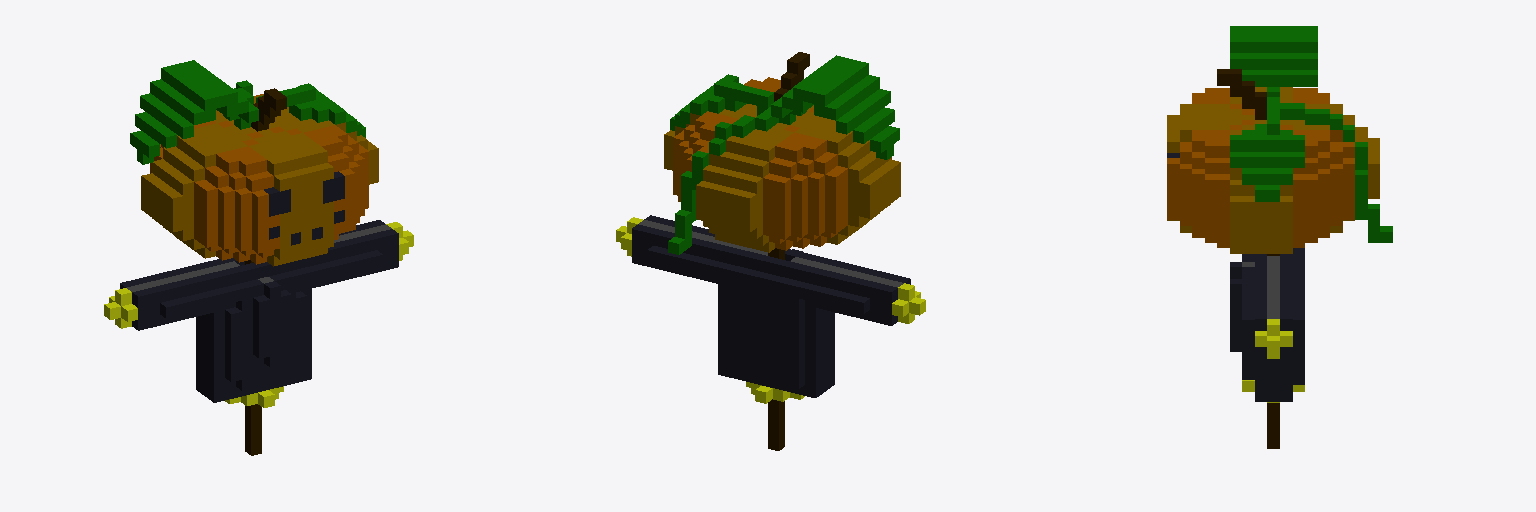
3 views of the same model, side by side, from view 1: azimuth 30°, elevation 25°; view 2: azimuth 150°, elevation 25°; view 3: azimuth 270°, elevation 25° (orthographic).
Visible parts, largest first — view 1: object 1; view 2: object 1; view 3: object 1.
Part boxes in pixels (left/top/right/bottom): object 1: left=104, top=60, right=413, bottom=455; object 1: left=616, top=52, right=925, bottom=450; object 1: left=1167, top=26, right=1392, bottom=448.
Size of the model in its own units: 2.8 by 3.4 by 1.8.
Materials: 1 (1 with a texture image).